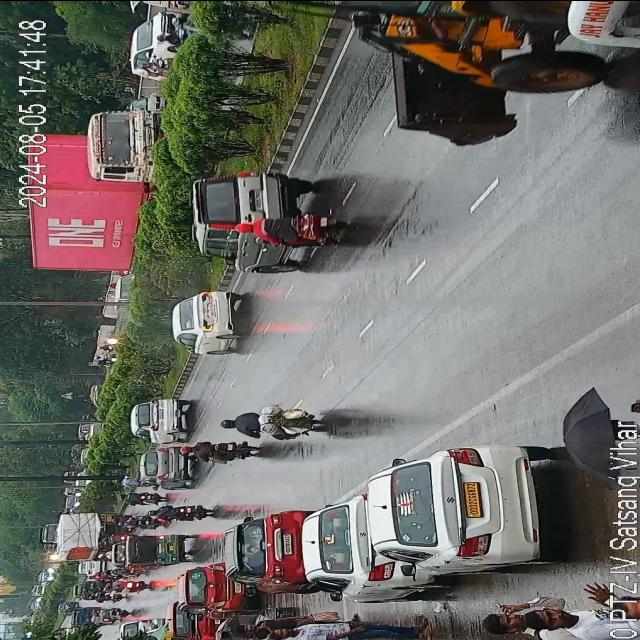2-wheelers: (221, 404, 325, 446), (255, 208, 341, 247), (186, 438, 256, 466), (153, 500, 211, 523), (94, 338, 124, 368), (108, 577, 152, 593), (118, 490, 163, 504), (118, 516, 162, 528), (114, 474, 142, 486)
auto: (123, 528, 187, 564), (89, 382, 111, 406)
car: (367, 443, 548, 574), (189, 168, 311, 268), (306, 500, 426, 598), (226, 504, 308, 590), (173, 286, 246, 354), (124, 10, 190, 76), (184, 565, 248, 616), (130, 396, 184, 441), (142, 442, 192, 488), (169, 596, 209, 640), (110, 272, 144, 308), (120, 617, 166, 640), (126, 91, 168, 110), (70, 606, 100, 628), (72, 579, 101, 599), (78, 560, 108, 576)
pedestrian: (486, 593, 613, 640), (266, 616, 429, 640), (235, 611, 315, 640)
truck: (225, 0, 566, 130), (31, 107, 158, 270), (58, 512, 119, 560), (37, 520, 61, 548)
